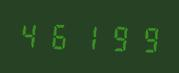four: (18, 17, 45, 51)
nine: (102, 20, 129, 54), (130, 21, 157, 55)
one: (74, 19, 101, 53)
six: (46, 18, 73, 52)
